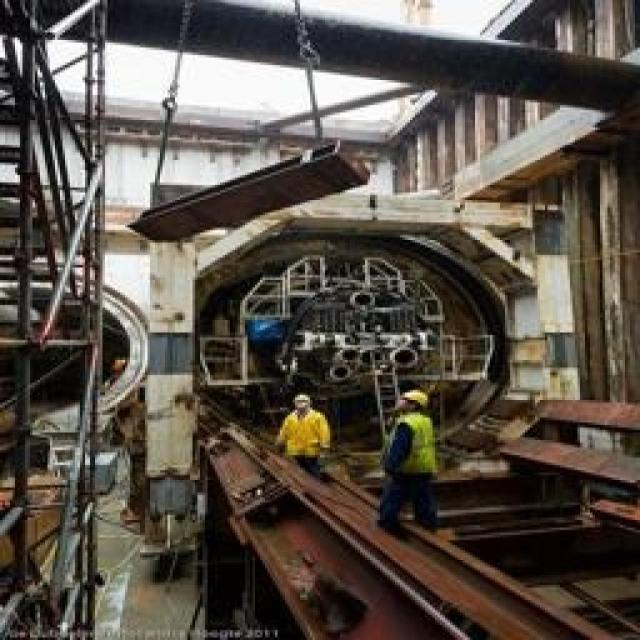Helmet: (386, 372, 458, 422), (280, 372, 334, 426)
Safety Vest: (362, 408, 448, 497), (268, 404, 344, 463)
